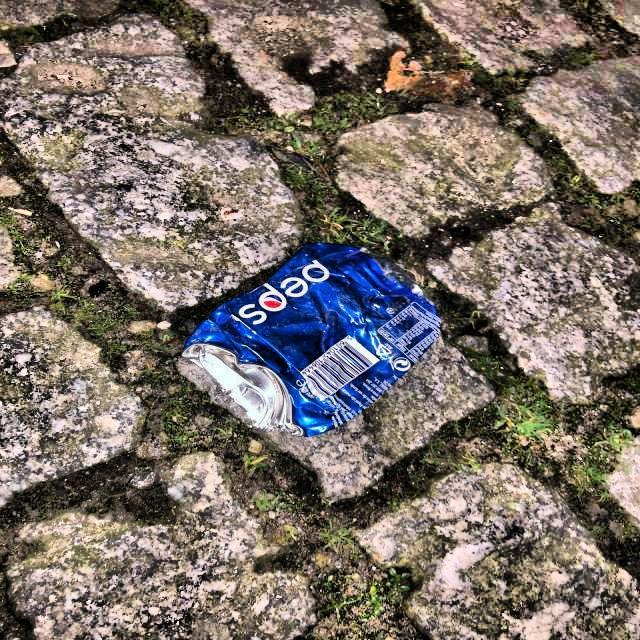metal: (176, 244, 442, 440)
